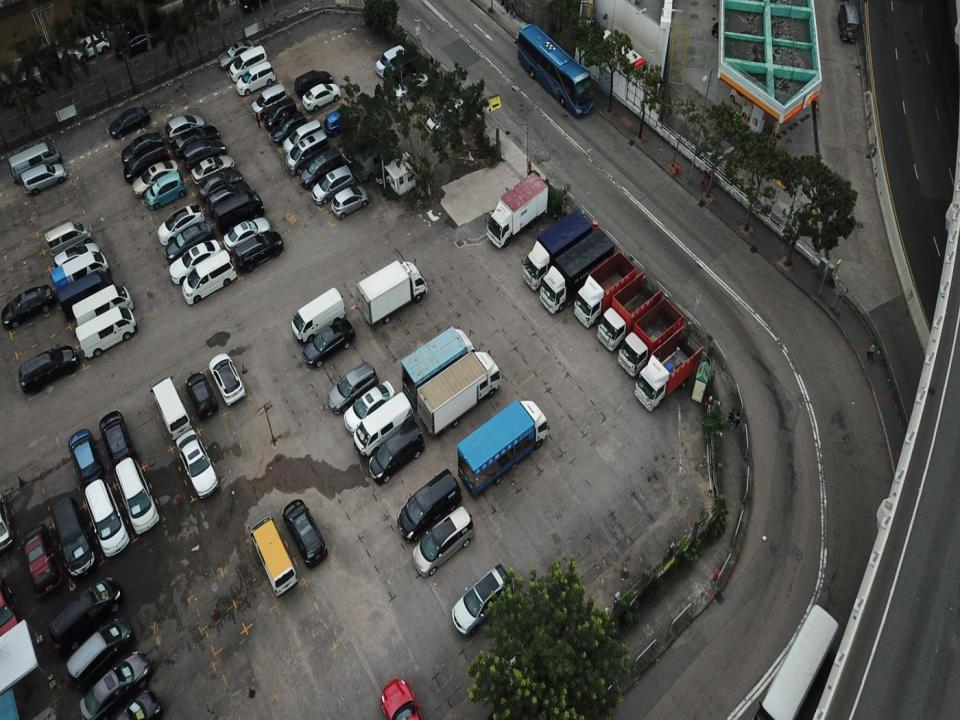bus: (759, 601, 838, 719), (516, 23, 594, 119)
car: (46, 576, 123, 650), (409, 504, 476, 580), (397, 467, 462, 544), (79, 649, 149, 719), (450, 564, 515, 638), (65, 616, 132, 687), (49, 496, 97, 578), (84, 478, 130, 560), (114, 456, 160, 535), (369, 421, 424, 487), (281, 498, 328, 569), (174, 429, 219, 500), (181, 249, 236, 307), (344, 379, 397, 437), (18, 344, 78, 395), (21, 524, 62, 596), (302, 317, 358, 369), (326, 361, 380, 414), (168, 239, 224, 286), (2, 284, 54, 332), (285, 127, 331, 178), (66, 427, 103, 487), (234, 229, 282, 275), (166, 219, 214, 263), (132, 158, 182, 199), (298, 148, 344, 192), (157, 202, 204, 245), (209, 352, 246, 406), (99, 410, 135, 465), (380, 676, 425, 719), (99, 690, 163, 719), (223, 215, 273, 252), (310, 164, 354, 206), (182, 136, 228, 176), (124, 144, 169, 184), (183, 370, 218, 420), (204, 181, 251, 218), (284, 116, 324, 158), (171, 125, 221, 158), (145, 170, 186, 210), (53, 243, 101, 277), (20, 164, 67, 198), (196, 168, 244, 201), (235, 61, 276, 99), (425, 97, 466, 135), (107, 105, 148, 142), (216, 41, 260, 73), (330, 186, 369, 221), (270, 112, 309, 147), (249, 84, 288, 118), (191, 156, 235, 186), (118, 29, 158, 62), (122, 132, 162, 164), (390, 68, 429, 100), (301, 81, 341, 112), (165, 114, 204, 144), (294, 68, 333, 98), (264, 97, 297, 131), (376, 44, 407, 78), (324, 107, 356, 139), (80, 33, 115, 61)
truck: (456, 398, 549, 500), (417, 349, 504, 439), (538, 229, 615, 316), (520, 207, 592, 294), (402, 325, 475, 410), (635, 326, 704, 412), (617, 297, 684, 379), (596, 274, 662, 353), (573, 250, 638, 329), (484, 172, 549, 248), (357, 258, 428, 324)
van: (245, 516, 300, 598), (353, 393, 414, 459), (290, 287, 347, 350), (76, 306, 136, 358), (50, 249, 110, 299), (70, 284, 134, 330), (57, 271, 114, 319), (150, 376, 192, 441), (7, 142, 62, 189), (213, 190, 264, 234), (346, 143, 404, 180), (44, 221, 91, 257), (229, 45, 269, 79), (836, 5, 860, 43)
